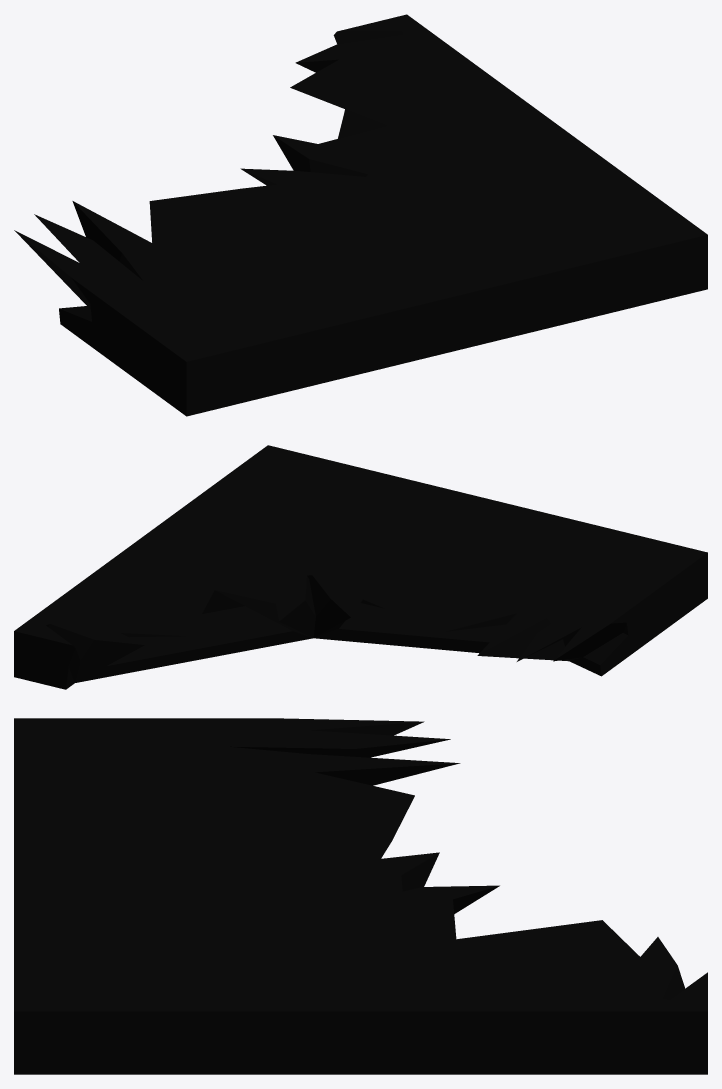
Rendered from Mod_Tile_08_Broken_01.fbx.
3 renders of one model, top to bottom at view 1: azimuth 30°, elevation 25°; view 2: azimuth 150°, elevation 25°; view 3: azimuth 270°, elevation 25°, orthographic. The views are drawn at different scales.
Visible parts, largest first — view 1: Mod_Tile_08_Broken_01; view 2: Mod_Tile_08_Broken_01; view 3: Mod_Tile_08_Broken_01.
Boxes of the visible parts, x1,y1,x2,y2 form: Mod_Tile_08_Broken_01: [14, 14, 707, 416]; Mod_Tile_08_Broken_01: [14, 445, 707, 689]; Mod_Tile_08_Broken_01: [14, 718, 707, 1074].
Size of the model in its own units: 100 by 10 by 100.
